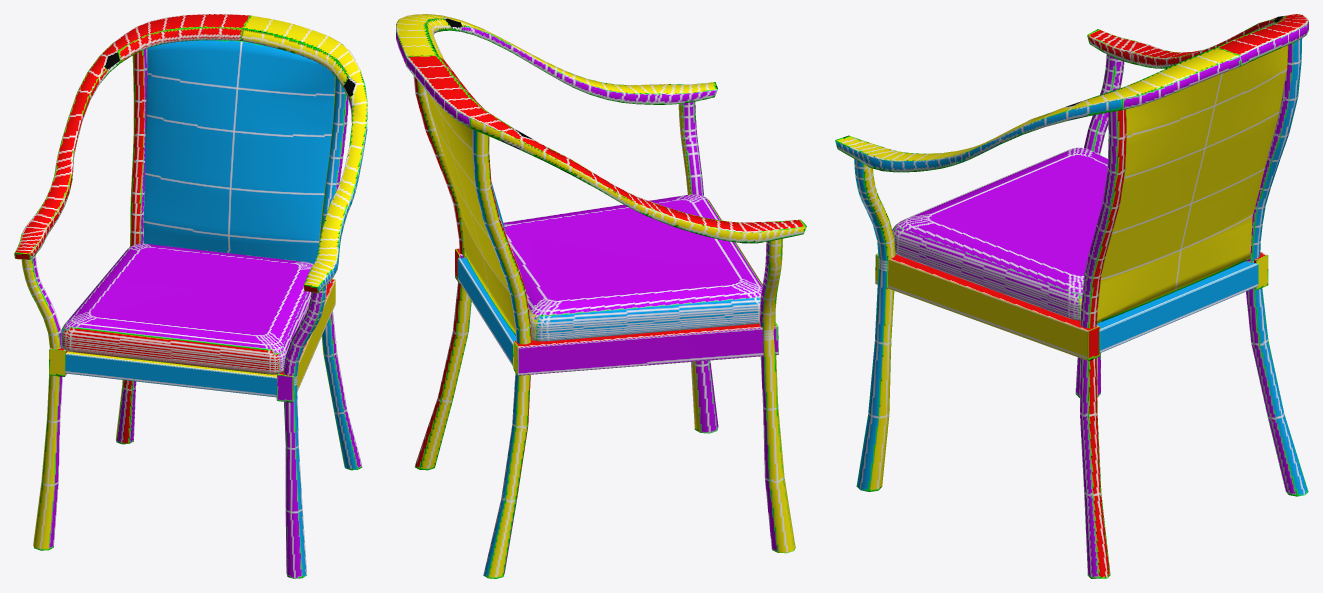
Rendered from Chair1.fbx.
3 views of the same model, side by side, from view 1: azimuth 30°, elevation 25°; view 2: azimuth 150°, elevation 25°; view 3: azimuth 270°, elevation 25° (orthographic). The views are drawn at different scales.
Visible parts, largest first — view 1: Loft001; view 2: Loft001; view 3: Loft001.
Boxes of the visible parts, box(x1,y1,x2,y2) form: Loft001: box(14, 14, 367, 578); Loft001: box(396, 14, 806, 578); Loft001: box(835, 14, 1308, 578).
Size of the model in its own units: 0.8826 by 1.02 by 0.8799.
1 material, 1 textured.
